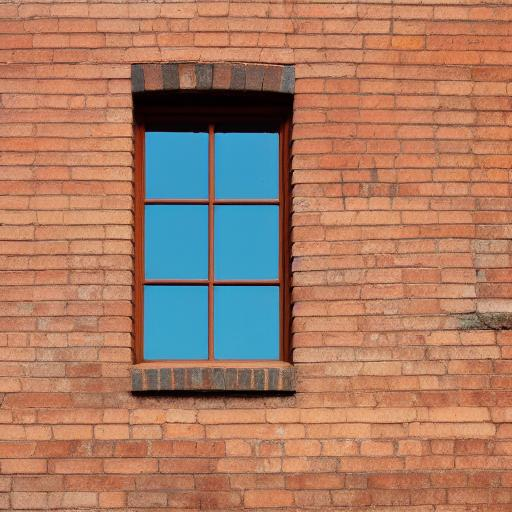Window: (128, 61, 301, 397)
